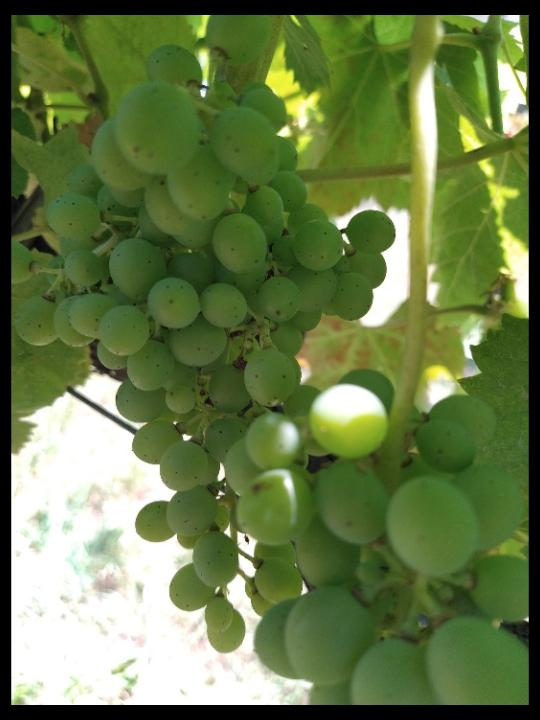grape: (13, 43, 397, 656)
